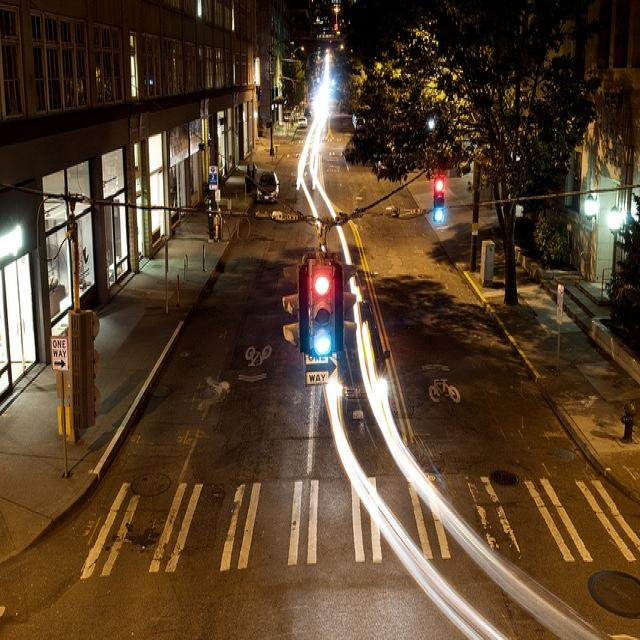car: (320, 345, 388, 420), (255, 168, 278, 198), (296, 116, 306, 126), (306, 108, 314, 119)
pole: (58, 372, 69, 477)
warning_column: (200, 239, 206, 271), (175, 273, 181, 304)
